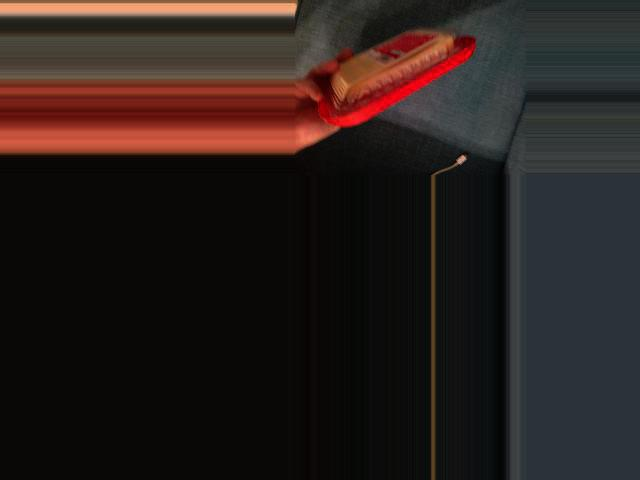cheese: (311, 24, 477, 132)
